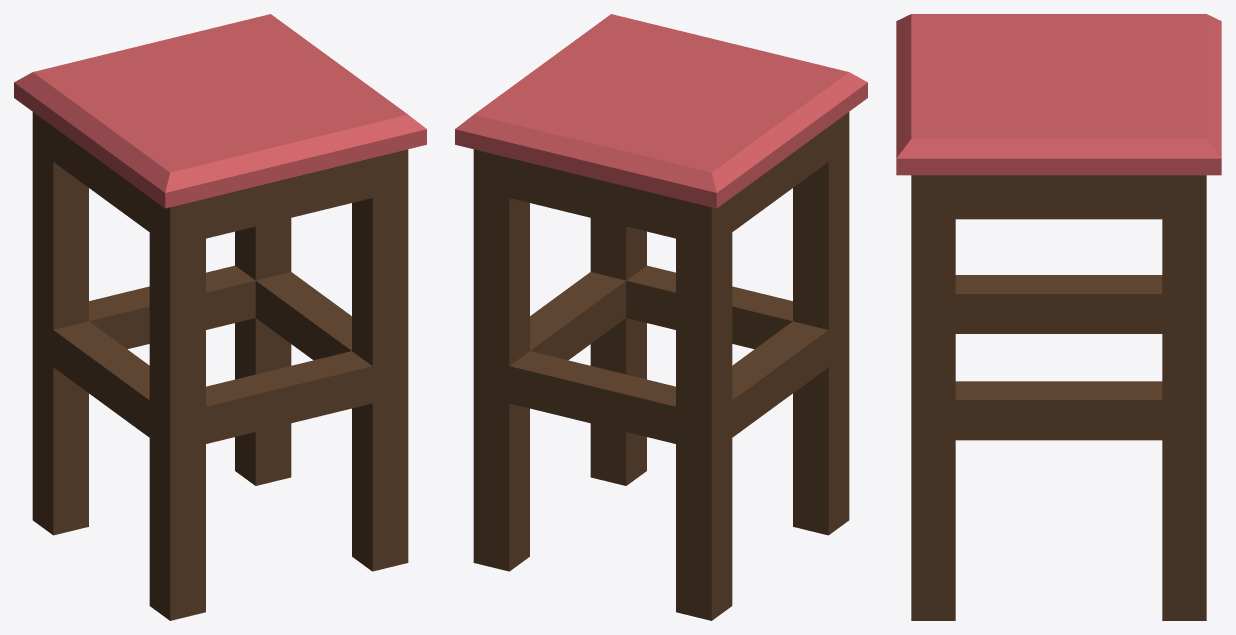
Rendered from Chair.fbx.
The picture shows the model from 3 angles, left to right: view 1: azimuth 30°, elevation 25°; view 2: azimuth 150°, elevation 25°; view 3: azimuth 270°, elevation 25°; orthographic projection. The views are drawn at different scales.
Visible parts, largest first — view 1: Chair; view 2: Chair; view 3: Chair.
Part boxes in pixels (x1,y1,x2,y2): Chair: (14,14,426,620); Chair: (455,14,867,620); Chair: (896,14,1221,620).
Bounding box in the file's own units: 220 × 360 × 220.
